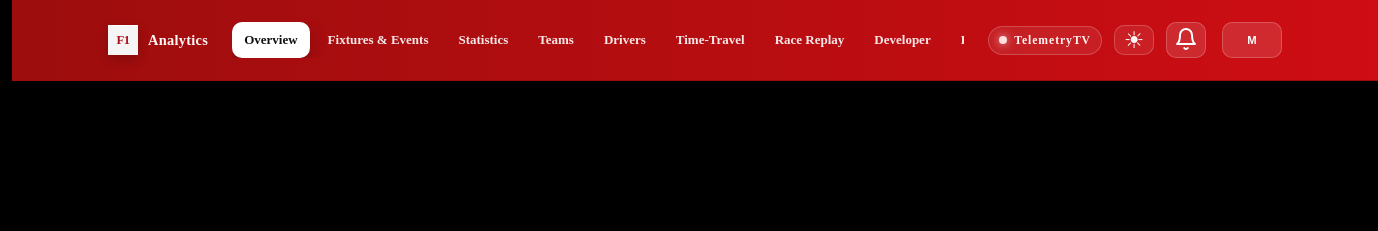
TopNavigation › opens an account menu on click instead of signing the user out
The width and height of the screenshot is (1378, 231).
Expected: the button "Log out" is not shown
Click the button "M". click: (1252, 40)
box: [1222,22,1282,58]
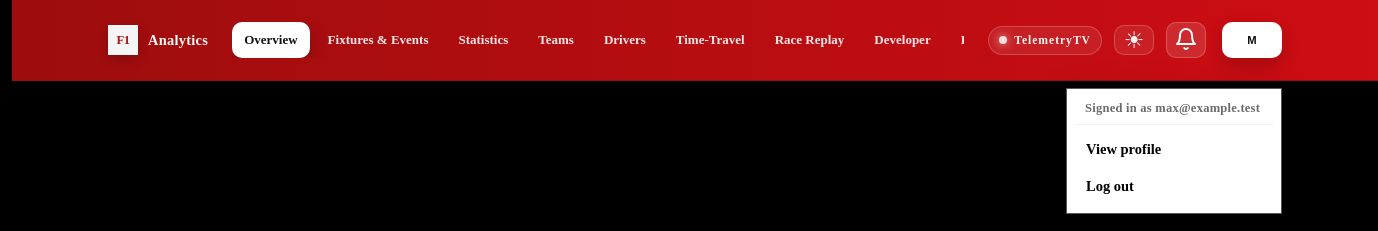
Expected: the text "Signed in as max@example.test" is shown, [1075,97,1273,125]
Expected: the button "Log out" is shown, [1075,168,1273,205]
